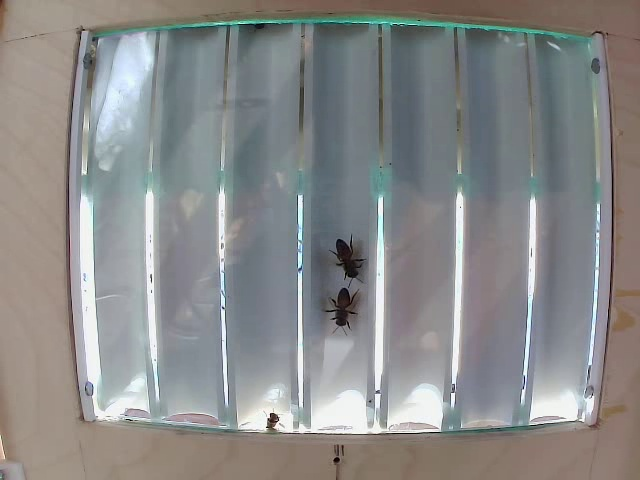bee: (334, 240, 378, 286), (326, 291, 357, 322)
